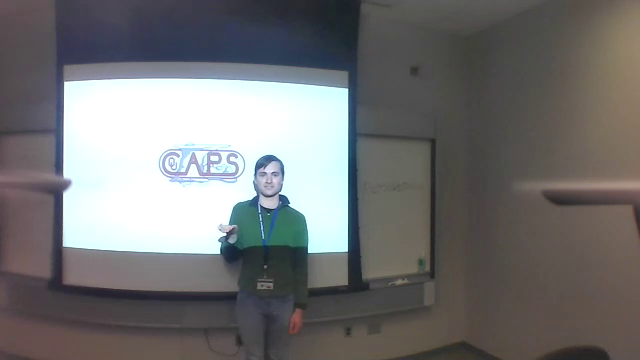land: (214, 219, 242, 237)
